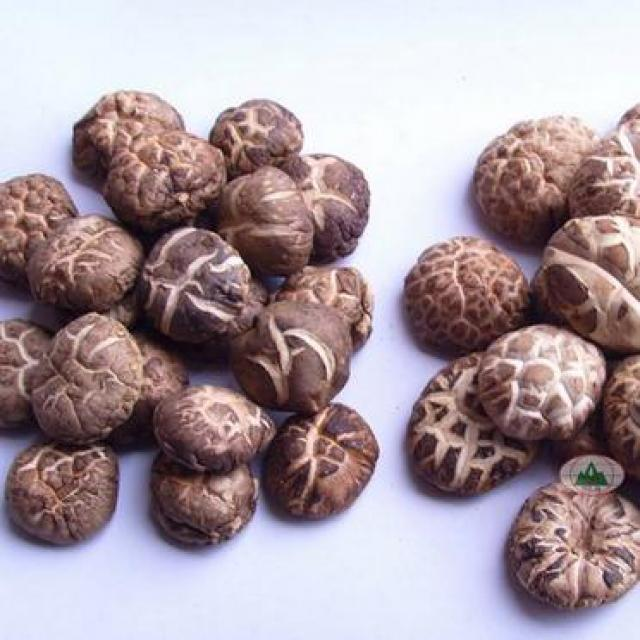Lentinus edodes: (513, 475, 640, 613), (416, 352, 536, 498), (478, 321, 603, 440), (259, 403, 382, 522), (404, 235, 525, 353), (475, 114, 595, 231), (542, 209, 640, 352), (7, 430, 124, 545), (41, 314, 144, 443), (145, 228, 249, 350), (239, 298, 350, 411), (146, 455, 257, 548), (33, 213, 141, 307), (152, 383, 273, 465), (112, 131, 223, 215), (74, 91, 185, 175), (283, 156, 370, 261), (0, 171, 74, 285), (208, 97, 300, 172)
